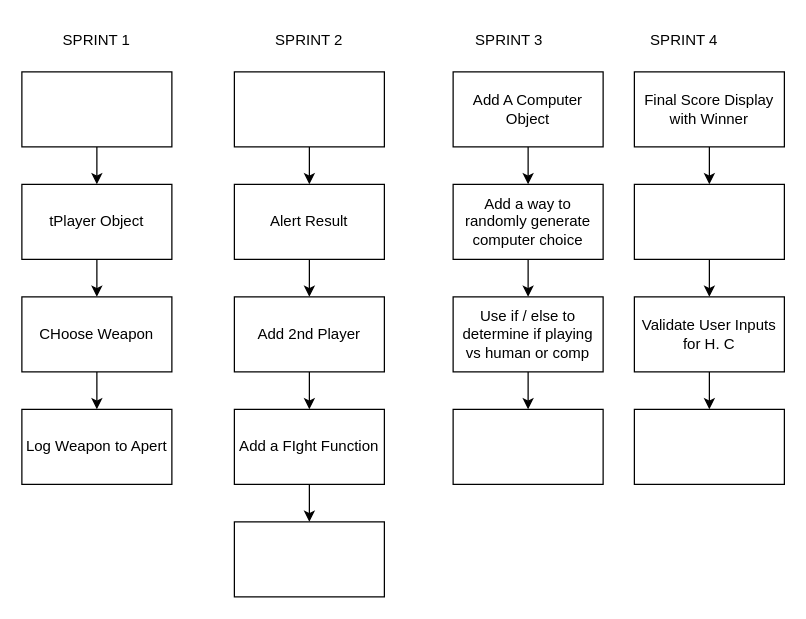
Image size: 806x619. Some labels were removed from this diagram. Here are the shapes that lost their labels. From the top down, the centre of each, then its label:
At point (96, 109): "Game Object".
At point (308, 109): "Logic To Determine WInner".
At point (708, 221): "Validate User Inputs for r,p,s".
At point (527, 446): "User Choice Target Score".
At point (708, 446): "Play Sound?".
At point (308, 559): "Show Winner".
